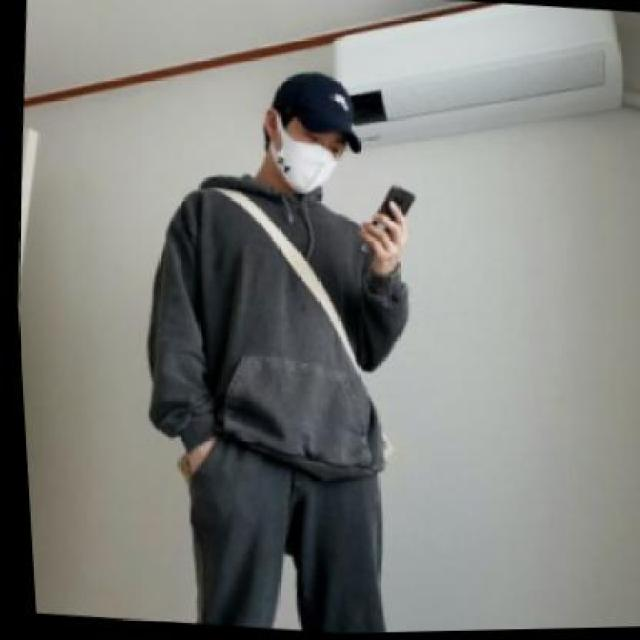hat: (262, 70, 364, 156)
